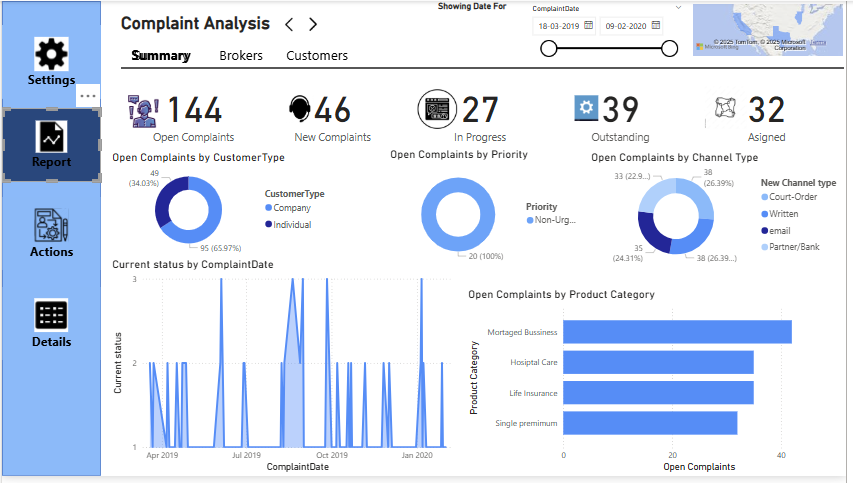

The page's visual inventory and layout, read from the dashboard file:
{"tool":"powerbi","page":{"name":"Reports","canvas":[1280,720],"ordinal":0},"visuals":[{"type":"shape","box":[0,0,150.1,720.4],"z":0},{"type":"actionButton","title":"Customers","box":[419.6,62.9,115.5,39.8],"z":0,"group":"g2"},{"type":"shape","title":"Complaint Analysis","box":[180.5,18.2,271.5,34.9],"z":1000},{"type":"shape","title":"Showing Date For ","box":[661.2,0,259.3,16.7],"z":2000},{"type":"actionButton","title":"Brokers","box":[304.1,62.9,115.5,39.8],"z":2000,"group":"g2"},{"type":"actionButton","title":"Customers ","box":[419.6,62.9,115.5,39.8],"z":2000,"group":"g1"},{"type":"actionButton","title":"Summary","box":[182.9,62.9,115.5,39.8],"z":2500,"group":"g2"},{"type":"slicer","fields":{"Values":["Sheet1.ComplaintDate"]},"box":[791.7,0,251.8,94],"z":3000},{"type":"shape","box":[180.5,92.5,1096.5,18.2],"z":4000},{"type":"filledMap","fields":{"Category":["Sheet1.State"]},"box":[1043.4,0,236.6,89.5],"z":19000},{"type":"image","box":[451.4,18.6,40,34.3],"z":21000},{"type":"image","box":[418.6,18.6,32.9,34.3],"z":22000},{"type":"group","id":"g1","title":"Active buttons","box":[182.9,62.9,351.4,40],"z":23000},{"type":"group","id":"g2","title":"Inactive buttons","box":[182.9,62.9,351.4,40],"z":24000},{"type":"map","fields":{"Size":["Sheet1.Total Complaints"],"Category":["Sheet1.State"]},"box":[179.9,111.7,480.9,367.3],"z":33000},{"type":"clusteredBarChart","fields":{"Y":["Sheet1.Total Complaints"],"Category":["Sheet1.Product Category"]},"box":[179.9,479.1,480.9,240.5],"z":34000},{"type":"tableEx","title":"Customer Details - Bussiness","fields":{"Values":["Sheet1.BrokerName","Sheet1.Total Complaints","Sheet1.New complaint day","Sheet1.Completion status","Sheet1.SatisfactionLevel"]},"box":[660.8,111.7,615.4,314.3],"z":35000},{"type":"tableEx","title":"Customer Details- Individual","fields":{"Values":["Sheet1.BrokerName","Sheet1.Total Complaints","Sheet1.New complaint day","Sheet1.Completion status","Sheet1.SatisfactionLevel"]},"box":[660.8,439.3,615.4,280.2],"z":36000},{"type":"actionButton","box":[0,36.4,150.1,112.2],"z":36001},{"type":"actionButton","box":[0,162.3,150.1,112.2],"z":36002},{"type":"actionButton","box":[0,297.3,150.1,110.7],"z":36003},{"type":"actionButton","box":[0,433.7,150.1,110.7],"z":36004}]}

Visuals, with their boxes on the page's 1280x720 design canvas (x1, y1, x2, y2). These are canvas units, not pixel positions in the 853x483 screenshot, which may show the page scaled, cropped or inside an application window:
shape: box(0, 0, 150, 720)
"Customers" actionButton: box(420, 63, 535, 103)
"Complaint Analysis" shape: box(180, 18, 452, 53)
"Showing Date For " shape: box(661, 0, 920, 17)
"Brokers" actionButton: box(304, 63, 420, 103)
"Customers " actionButton: box(420, 63, 535, 103)
"Summary" actionButton: box(183, 63, 298, 103)
slicer - Sheet1.ComplaintDate: box(792, 0, 1044, 94)
shape: box(180, 92, 1277, 111)
filledMap - Sheet1.State: box(1043, 0, 1280, 90)
image: box(451, 19, 491, 53)
image: box(419, 19, 452, 53)
"Active buttons" group: box(183, 63, 534, 103)
"Inactive buttons" group: box(183, 63, 534, 103)
map - Sheet1.Total Complaints x Sheet1.State: box(180, 112, 661, 479)
clusteredBarChart - Sheet1.Total Complaints x Sheet1.Product Category: box(180, 479, 661, 720)
"Customer Details - Bussiness" tableEx: box(661, 112, 1276, 426)
"Customer Details- Individual" tableEx: box(661, 439, 1276, 720)
actionButton: box(0, 36, 150, 149)
actionButton: box(0, 162, 150, 274)
actionButton: box(0, 297, 150, 408)
actionButton: box(0, 434, 150, 544)
